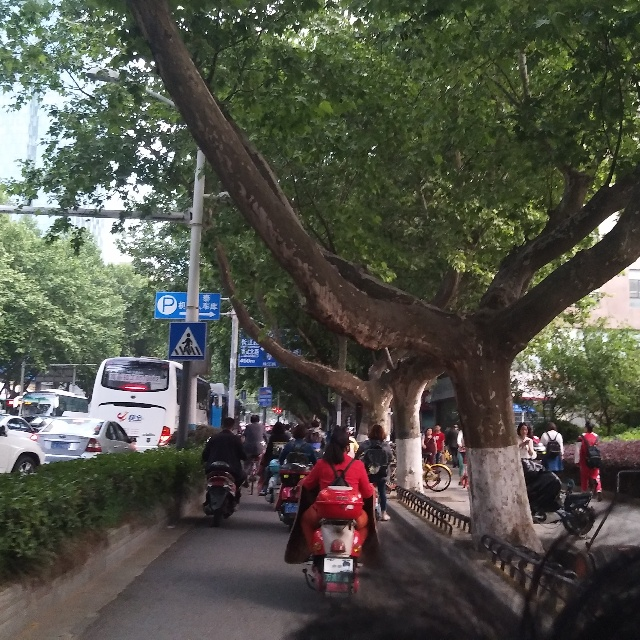crosswalk: (168, 322, 205, 361)
